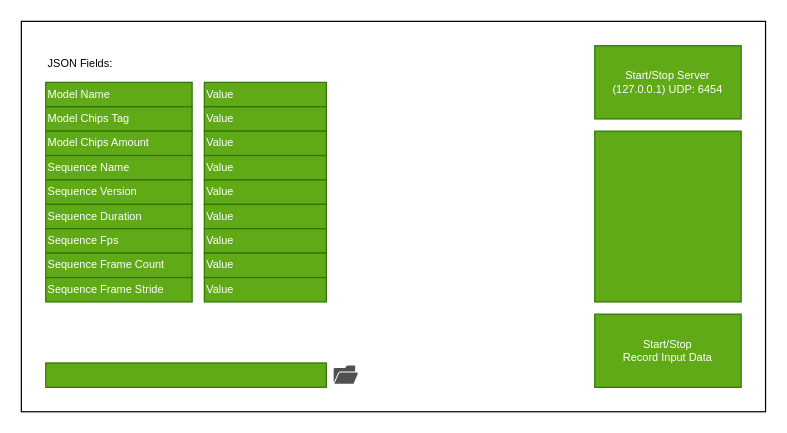
Some shapes in this 787 by 433 pixel diagram are drawn without their labels. Each missing label, with the centre of its shape:
"D:\json_folder\sequnce_1.json" goes at (x=185, y=374).
"Stats of catched data..." goes at (x=667, y=216).
